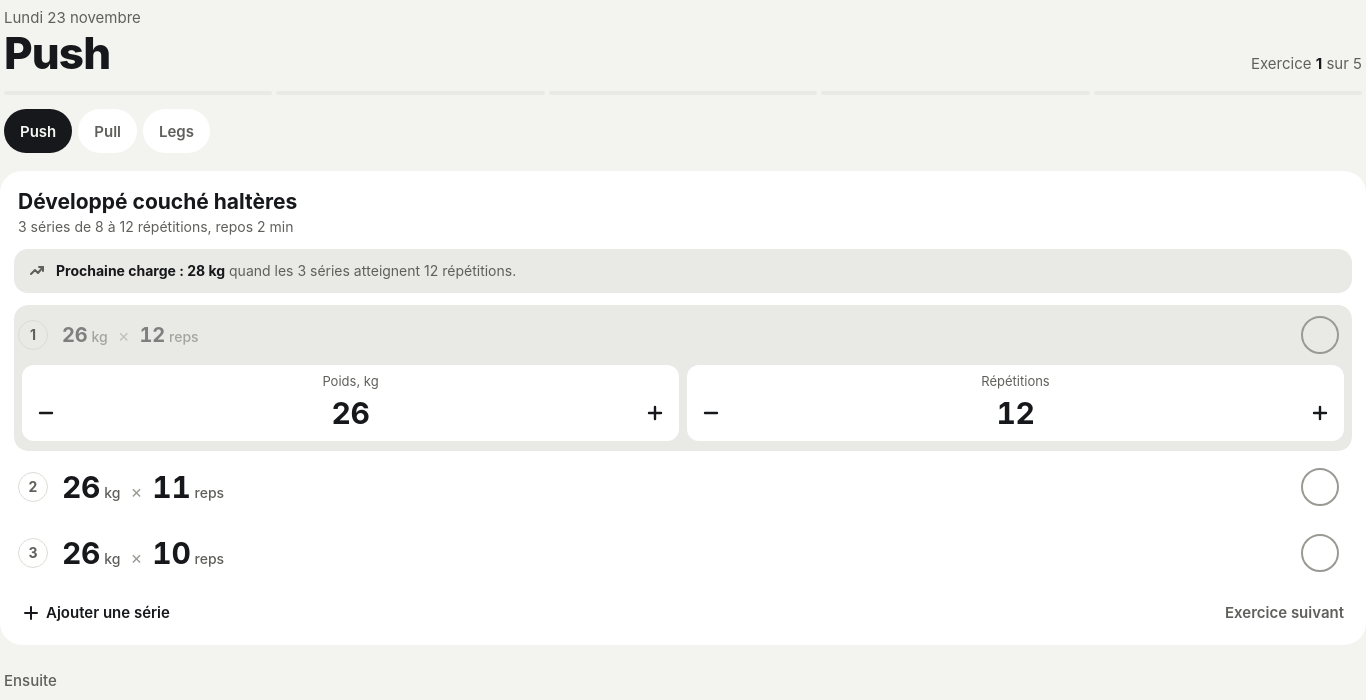
Test: SessionPage › ajouter une série l’enregistre
Expected: the button named "Valider la série 1" is shown, [1294, 309, 1346, 361]
Click the button "Ajouter une série" at (96, 613), box [14, 591, 178, 635]
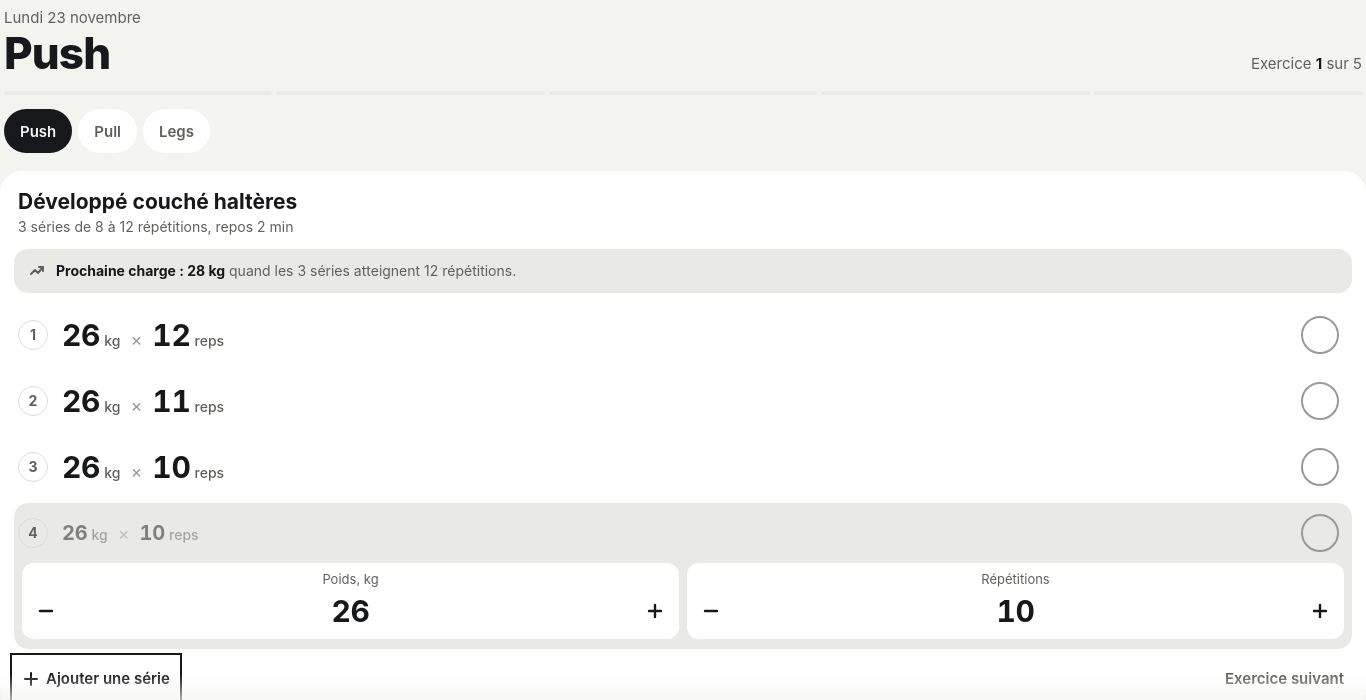
Expected: the button named "Valider la série 4" is shown, [1294, 507, 1346, 559]
